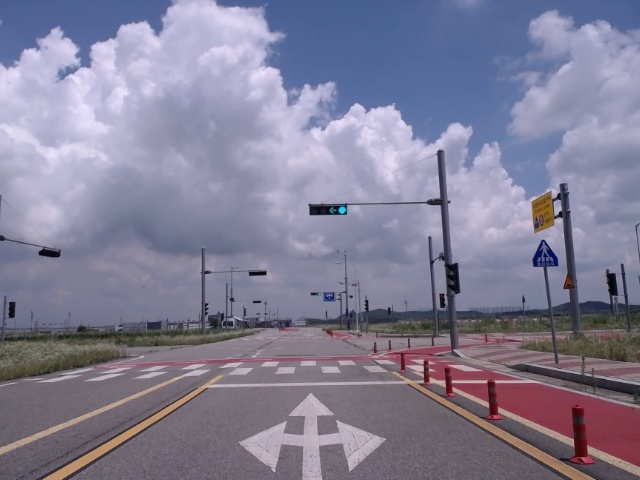all_green_4: (308, 203, 353, 216)
